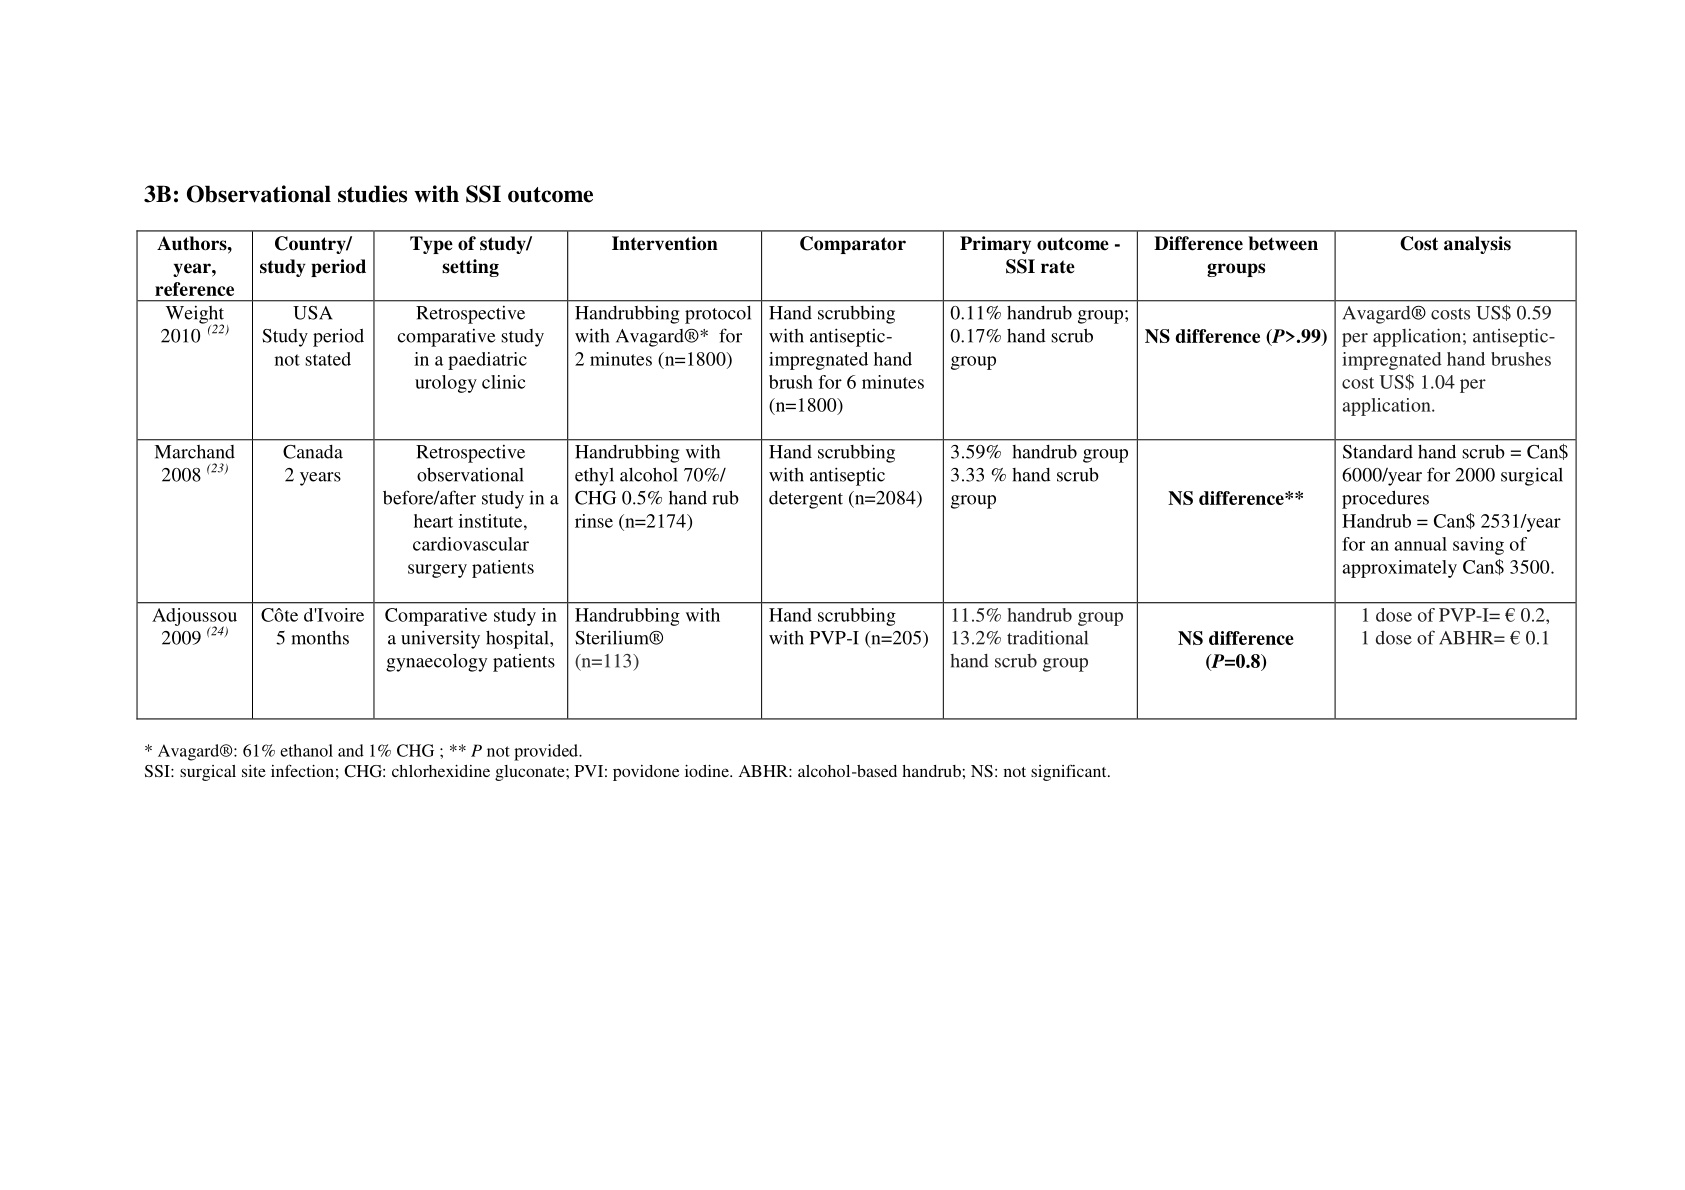full_lined: (136, 229, 1577, 720)
